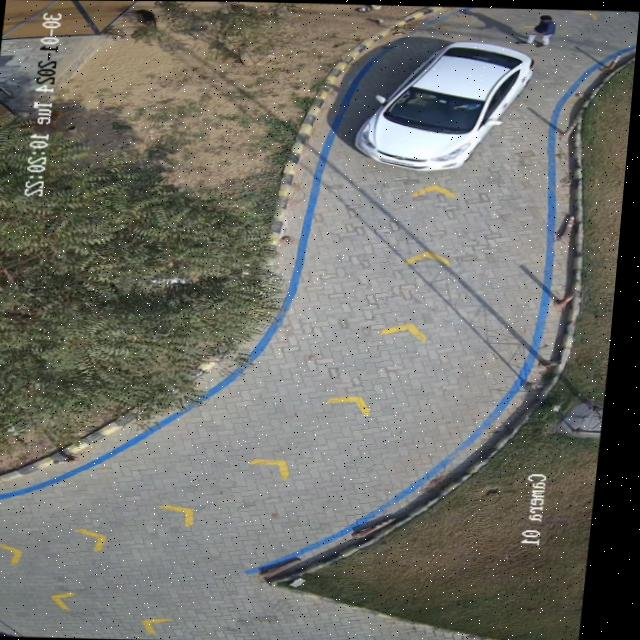car: (360, 41, 534, 169)
